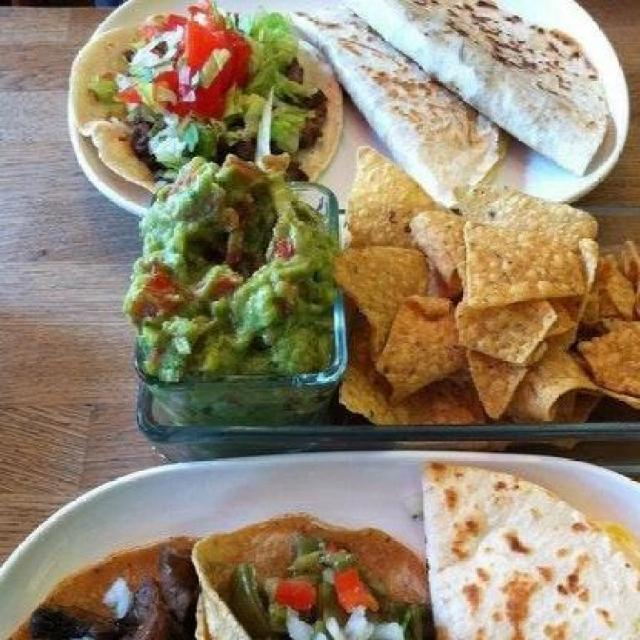guacamole: (121, 158, 342, 418)
tacos: (11, 497, 418, 638), (67, 9, 344, 197)
